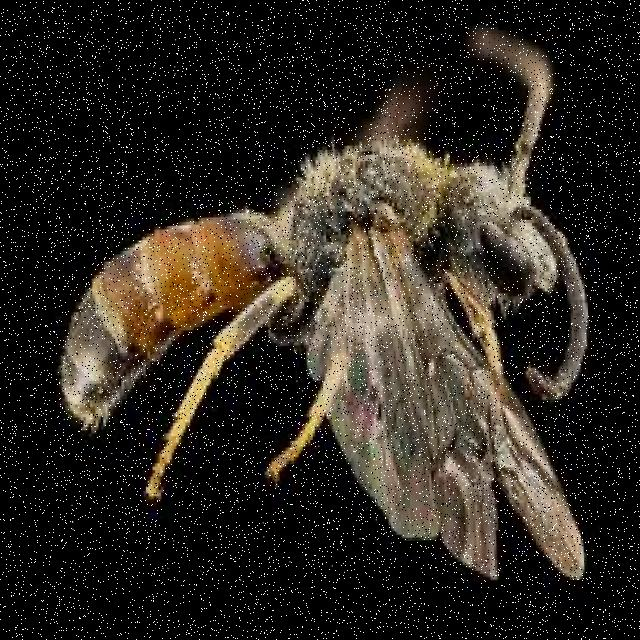Lasioglossum: (37, 2, 619, 596)
